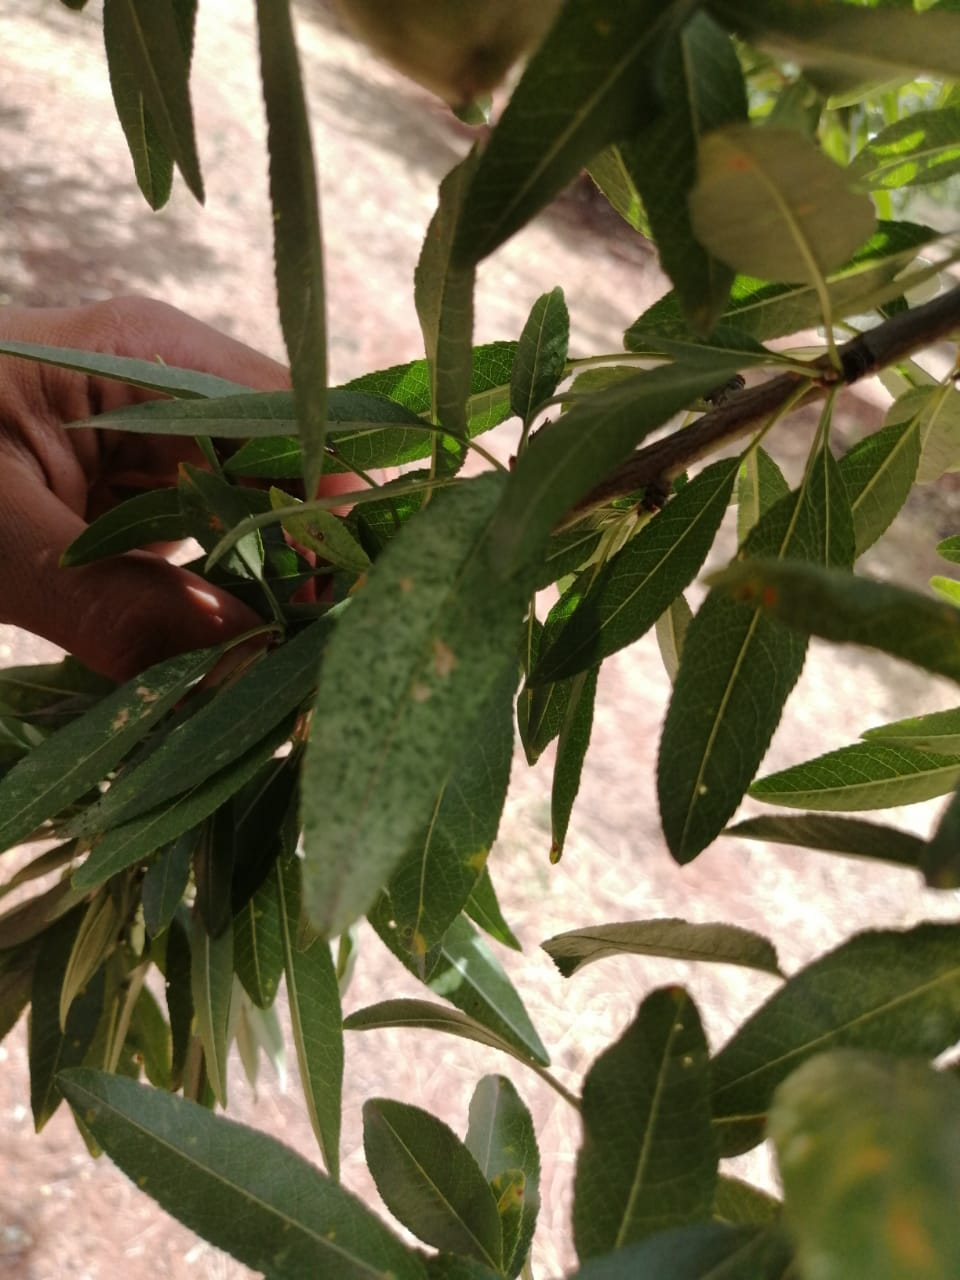faux tigre: (292, 471, 532, 946)
